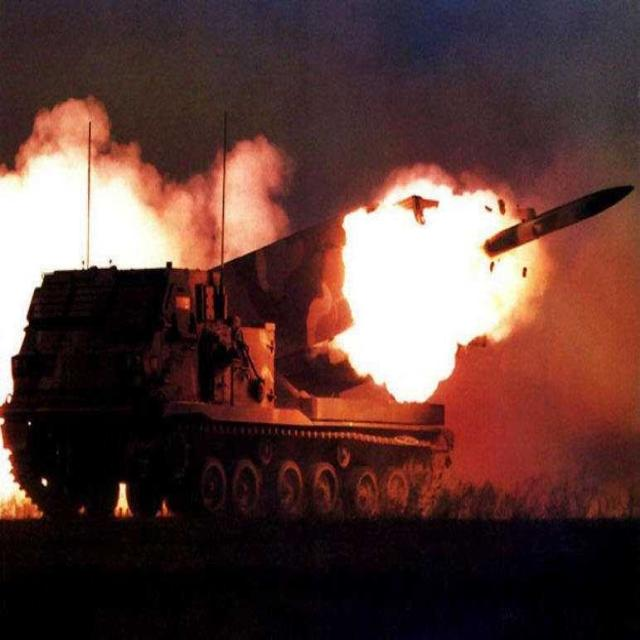missile: (482, 184, 636, 282)
